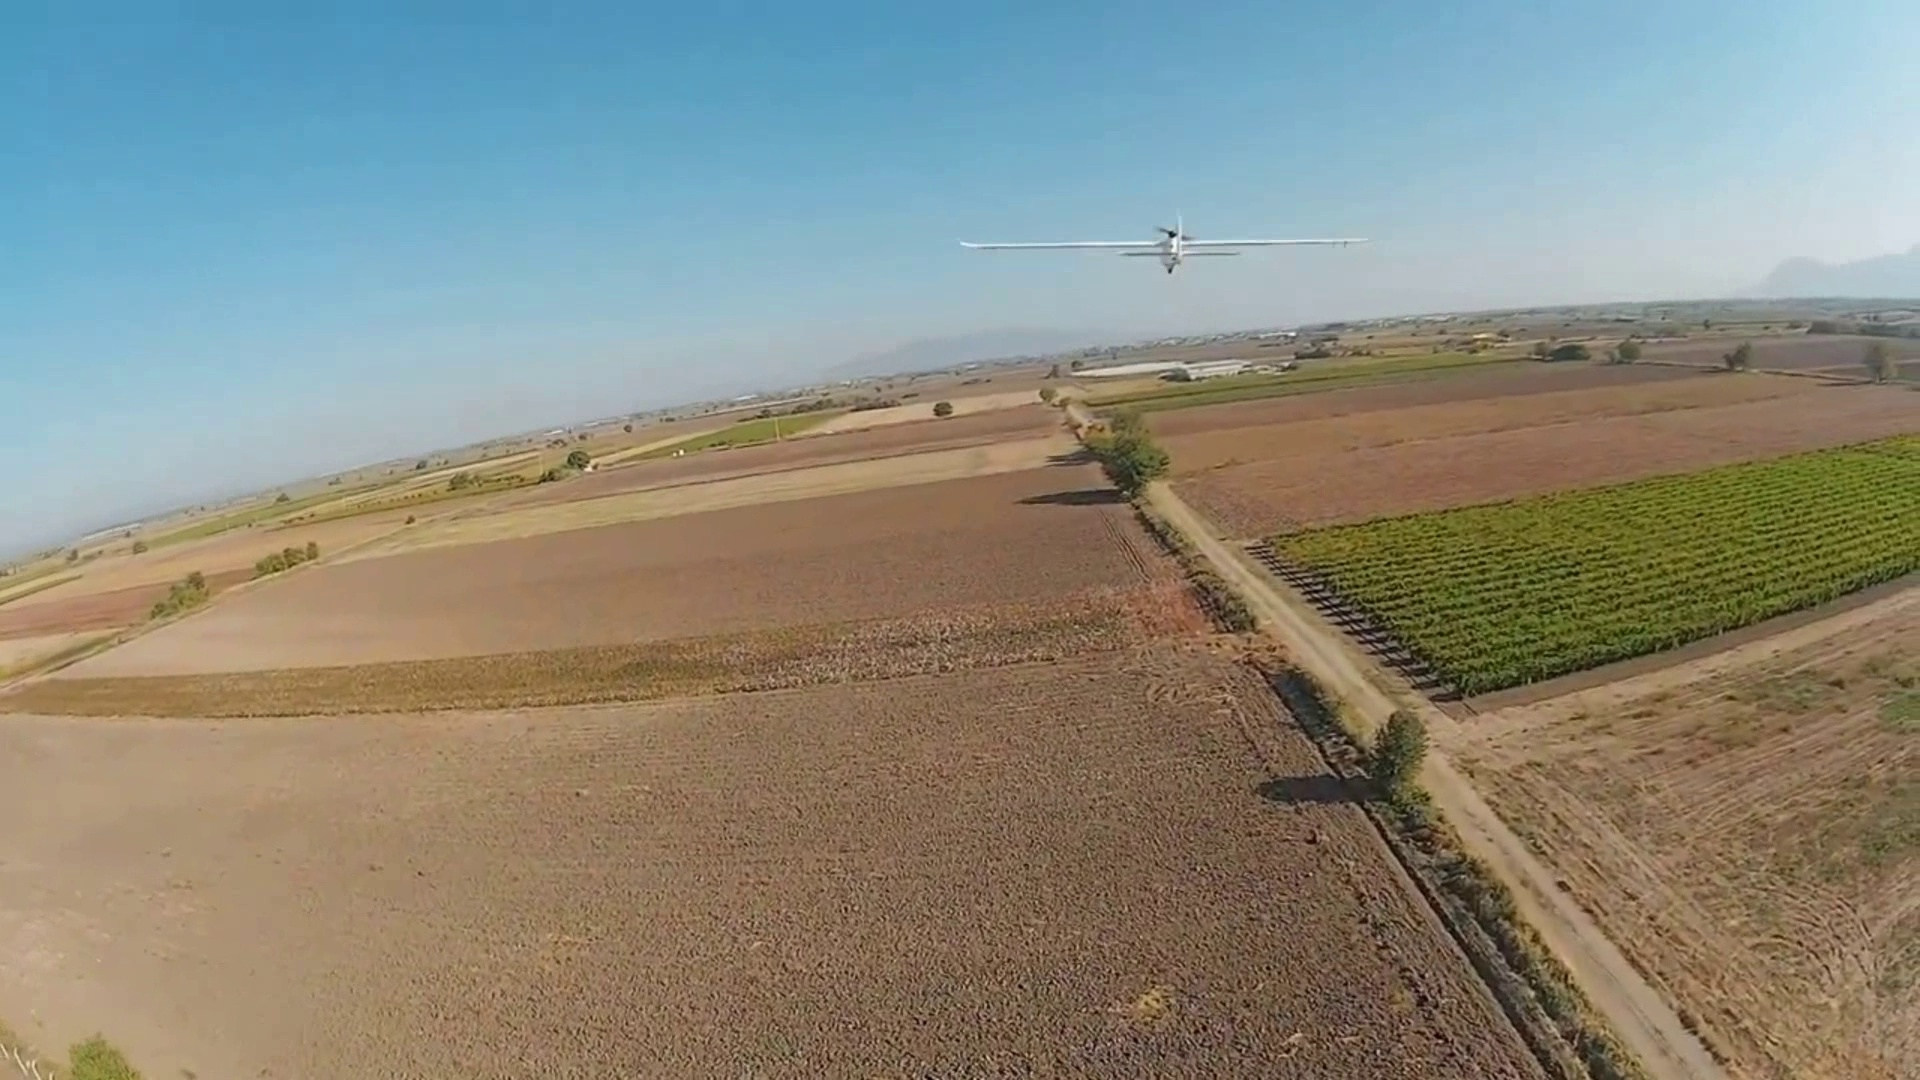airplane: (959, 214, 1361, 276)
